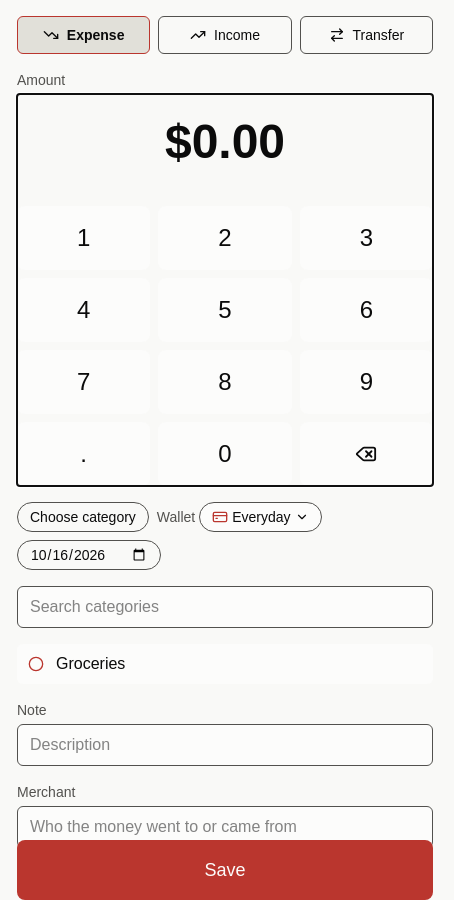
Scenario: TransactionForm — merchant on the create path (Task 8) › does not offer a Merchant field when CREATING a transfer
What coordinates should you click on to do the following:
click the radio button labelled "Transfer"
I would click on:
 (366, 35)
Its box is [300,16,433,54].
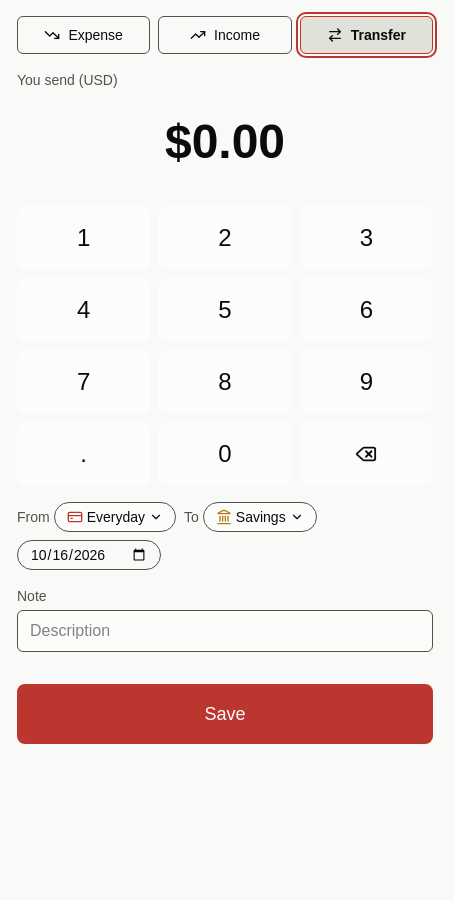
Expected: the field labelled "Note" is shown, [17,610,433,652]
Expected: the radio button labelled "Transfer" is checked, [300,16,433,54]
Expected: the text labelled "Merchant" is gone
